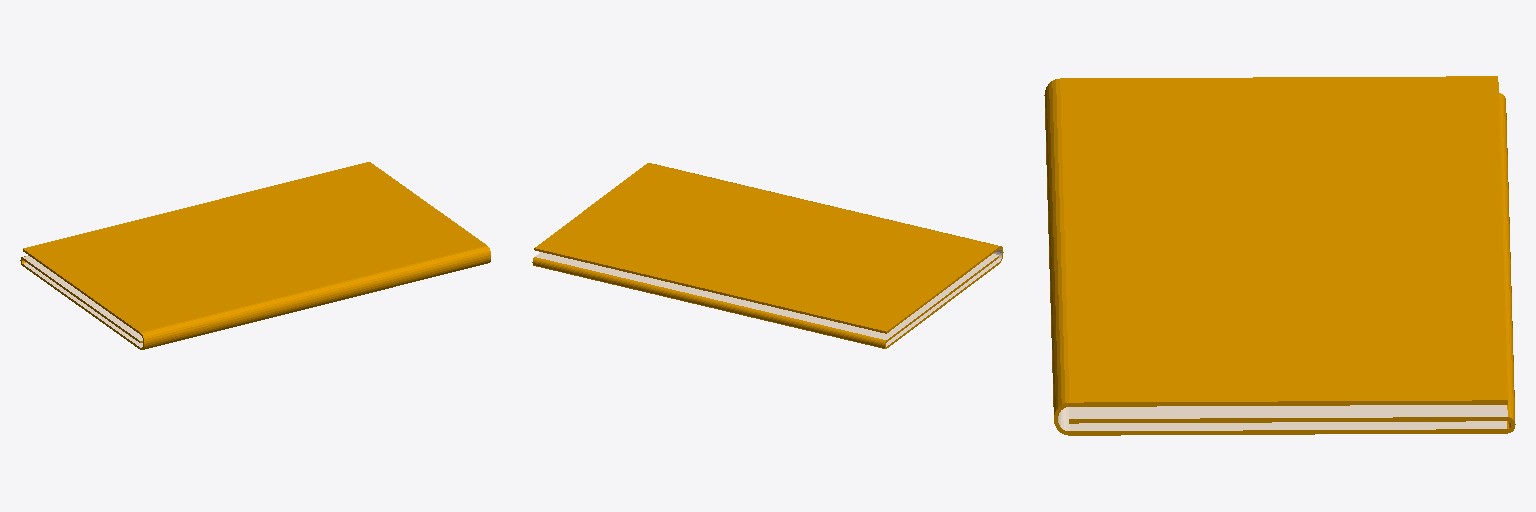
robot.urdf — newspaper_model:
<robot name="newspaper_model">
  <link name="newspaper">
    <inertial>
      <mass value="0.1" />
      <inertia  ixx="1.0" ixy="0.0"  ixz="0.0"  iyy="100.0"  iyz="0.0"  izz="1.0" />
    </inertial>
    <visual>
      <geometry>
        <mesh filename="package://models_pkg/models/living_room/newspaper.dae" scale="1 1 1"/>
      </geometry>	
    </visual>
    <collision>
      <geometry>
        <mesh filename="package://models_pkg/models/living_room/newspaper.dae" scale="1 1 1"/>
      </geometry>
    </collision>
  </link>
</robot>

--- Render facts (derived) ---
Views: 3 orthographic renders of the robot side by side, from view 1: azimuth 30°, elevation 25°; view 2: azimuth 150°, elevation 25°; view 3: azimuth 270°, elevation 25°.
Model newspaper_model with 1 links and 0 joints (none), rooted at newspaper, posed every joint at zero.
Links seen in each view (by area): view 1: newspaper; view 2: newspaper; view 3: newspaper.
Link boxes in pixels (x1,y1,x2,y2): newspaper: (20, 162, 490, 349); newspaper: (532, 163, 1003, 348); newspaper: (1044, 76, 1515, 435).
Size in the robot's own frame: 0.7404 by 0.4514 by 0.0351 metres.
Meshes: 1 distinct files referenced, 1 mesh visuals loaded (1 Collada DAE).